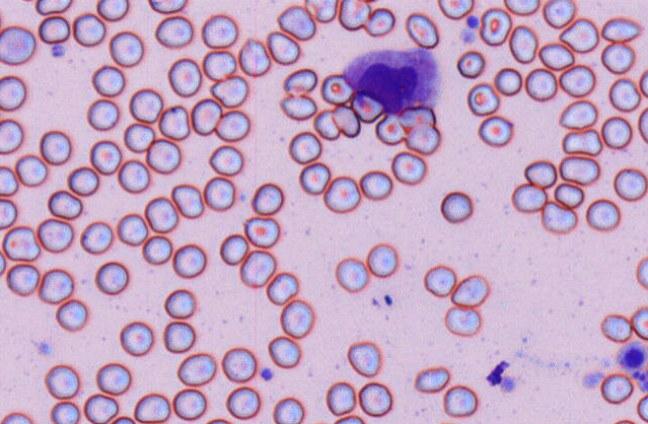MONO: (345, 48, 441, 115)
PLT: (616, 343, 648, 371), (260, 366, 275, 383), (500, 378, 517, 392), (467, 15, 482, 29), (51, 44, 67, 57), (38, 343, 53, 356), (636, 379, 648, 391), (630, 368, 640, 379), (637, 373, 647, 381)
RBC: (323, 175, 360, 212), (239, 249, 275, 287), (2, 225, 40, 261), (277, 4, 315, 40), (0, 25, 35, 64), (167, 57, 201, 97), (177, 352, 216, 386), (201, 13, 238, 48), (280, 299, 313, 338), (154, 15, 193, 47), (238, 37, 270, 76), (559, 154, 599, 185), (44, 364, 79, 399), (38, 268, 73, 303), (221, 347, 256, 382), (37, 218, 73, 252), (144, 196, 178, 232), (109, 30, 143, 66), (479, 7, 511, 45), (172, 243, 206, 278), (358, 381, 392, 416), (146, 138, 180, 173), (119, 321, 153, 356), (243, 215, 279, 248), (559, 64, 595, 97), (405, 12, 438, 48), (190, 98, 222, 135), (613, 167, 647, 201), (335, 257, 368, 292), (96, 362, 131, 395), (442, 384, 477, 417), (391, 151, 426, 184), (225, 386, 260, 419), (129, 88, 162, 123), (541, 201, 577, 233), (158, 104, 190, 140), (508, 24, 537, 63), (72, 12, 105, 46), (524, 67, 557, 101), (266, 30, 299, 64), (585, 198, 620, 230), (215, 109, 250, 141), (600, 42, 635, 74), (444, 305, 480, 336), (133, 392, 170, 422), (423, 264, 456, 297), (95, 261, 128, 294), (440, 190, 473, 223), (288, 131, 321, 164), (117, 159, 149, 193), (203, 176, 235, 210), (266, 271, 298, 305), (39, 130, 71, 164), (172, 388, 206, 420), (608, 77, 640, 111), (90, 139, 121, 174), (208, 144, 243, 175), (467, 82, 499, 115), (55, 298, 87, 331), (6, 263, 39, 295), (80, 221, 113, 253), (268, 335, 300, 368), (320, 73, 353, 105), (251, 182, 283, 215), (91, 64, 124, 96), (366, 243, 397, 277), (325, 381, 356, 415), (478, 115, 512, 146), (83, 393, 118, 423), (47, 189, 82, 219), (511, 182, 546, 212), (538, 41, 574, 70), (15, 154, 47, 186), (163, 320, 195, 352), (87, 98, 119, 130), (406, 123, 439, 154), (359, 169, 392, 200), (600, 372, 633, 403), (601, 116, 632, 149), (202, 50, 236, 80), (601, 16, 640, 42), (299, 162, 330, 194), (67, 166, 99, 196), (117, 213, 147, 245), (338, 0, 370, 30), (281, 93, 316, 120), (375, 113, 405, 144), (123, 122, 154, 152), (164, 288, 195, 318), (219, 233, 248, 265), (524, 159, 556, 188), (542, 0, 575, 28), (142, 234, 172, 264), (600, 313, 631, 342), (364, 7, 395, 36), (38, 15, 70, 43), (0, 75, 25, 110), (272, 396, 304, 423), (313, 109, 340, 140), (0, 118, 23, 153), (494, 67, 522, 95), (456, 50, 484, 78), (554, 182, 584, 208), (305, 0, 337, 22), (437, 0, 473, 19), (96, 0, 128, 21), (50, 401, 79, 423), (0, 165, 18, 195), (503, 0, 539, 15), (631, 306, 647, 339), (148, 0, 187, 13), (0, 198, 16, 228), (0, 411, 32, 423), (636, 256, 647, 288), (638, 106, 647, 142), (637, 393, 647, 421), (334, 414, 364, 423), (639, 68, 647, 97), (110, 415, 135, 423), (205, 417, 231, 423), (0, 251, 6, 275), (612, 418, 635, 423), (308, 420, 331, 424)
Schistocyte: (170, 183, 209, 221), (558, 19, 599, 53), (212, 75, 251, 110), (556, 99, 599, 130), (561, 129, 604, 158), (350, 94, 386, 125), (410, 366, 451, 392), (282, 68, 321, 95), (397, 107, 438, 129), (333, 107, 362, 136), (34, 0, 73, 16)
